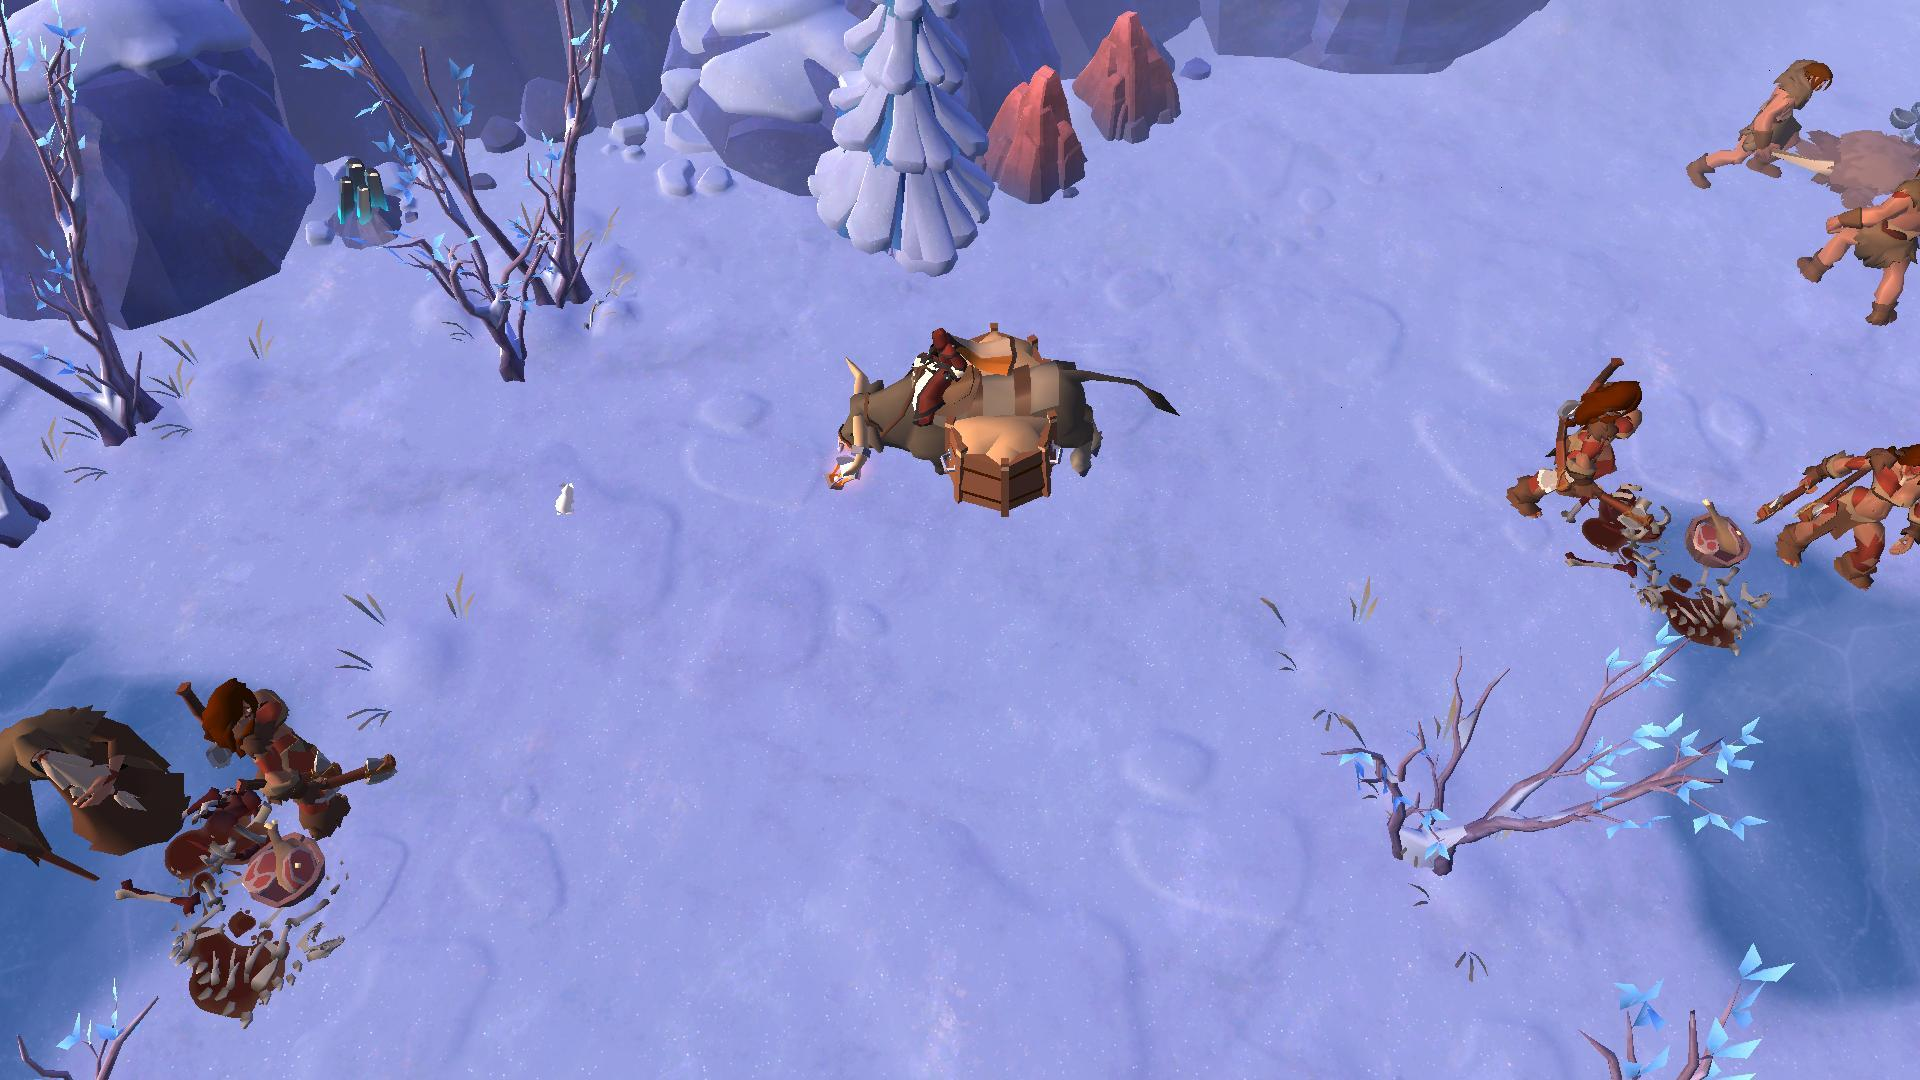enemy_factionKeeper: (203, 663, 400, 857), (0, 699, 206, 861), (1770, 435, 1920, 611), (1692, 42, 1834, 210), (1507, 364, 1646, 535), (1803, 169, 1920, 328)
ore_t4: (330, 156, 392, 227)
rock_t5: (1071, 9, 1185, 141), (978, 69, 1083, 208)
